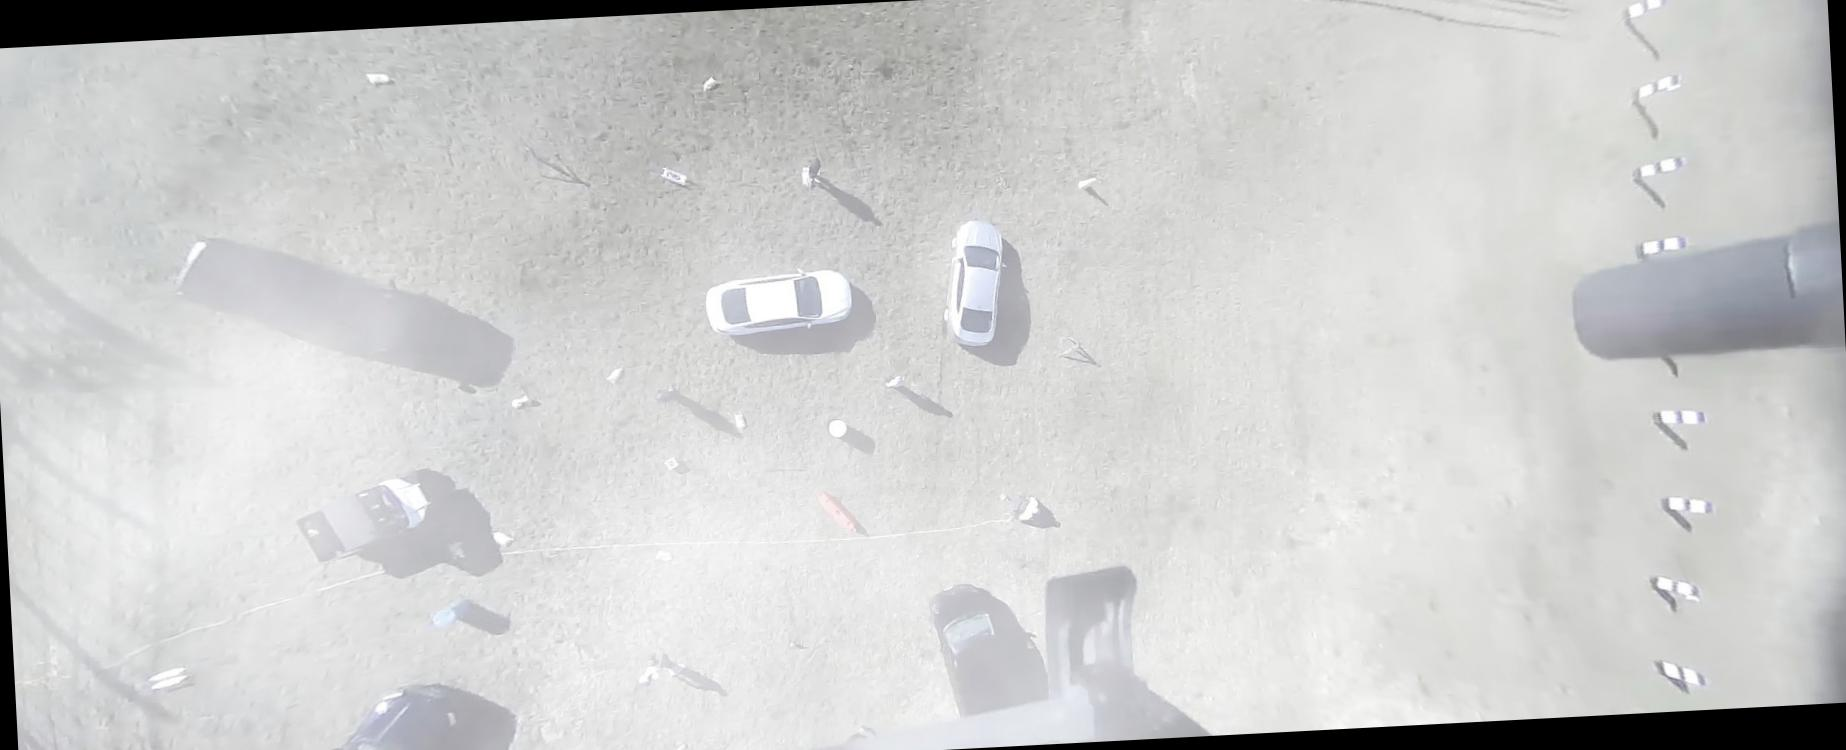vehicle: (166, 223, 426, 367), (291, 467, 444, 566), (927, 582, 1017, 719), (306, 681, 471, 749), (703, 264, 854, 338), (937, 218, 1012, 349)
